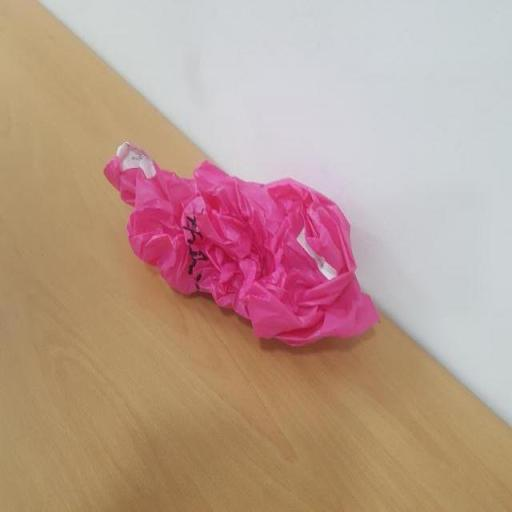plastic-bag: (100, 134, 380, 356)
